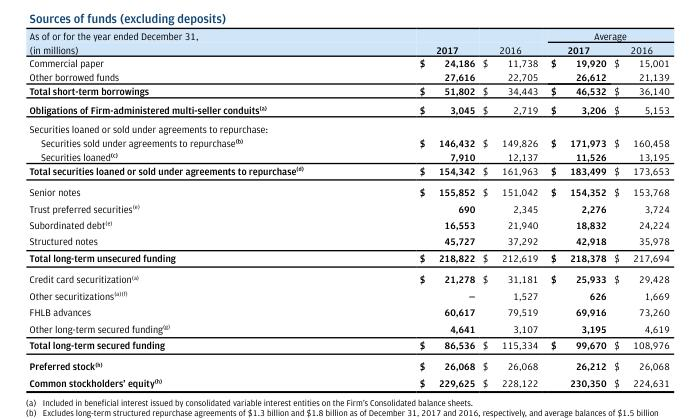table: (28, 28, 668, 388)
table column: (28, 28, 360, 388), (360, 28, 478, 388), (543, 28, 609, 388), (478, 28, 543, 388), (609, 28, 668, 388)
table column header: (28, 28, 668, 55)
table projected row header: (28, 118, 668, 135)
table row: (28, 180, 668, 199), (28, 267, 668, 286), (28, 336, 668, 355), (28, 355, 668, 374), (28, 100, 668, 118), (28, 249, 668, 267), (28, 83, 668, 100), (28, 118, 668, 135), (28, 163, 668, 180), (28, 199, 668, 216), (28, 232, 668, 249), (28, 286, 668, 303), (28, 319, 668, 336), (28, 216, 668, 232), (28, 303, 668, 319), (28, 41, 668, 55), (28, 55, 668, 69), (28, 69, 668, 83), (28, 135, 668, 149), (28, 149, 668, 163), (28, 374, 668, 388), (28, 28, 668, 41)
table spanning cell: (28, 28, 360, 55), (360, 28, 478, 55), (478, 28, 543, 55), (543, 28, 668, 41)
